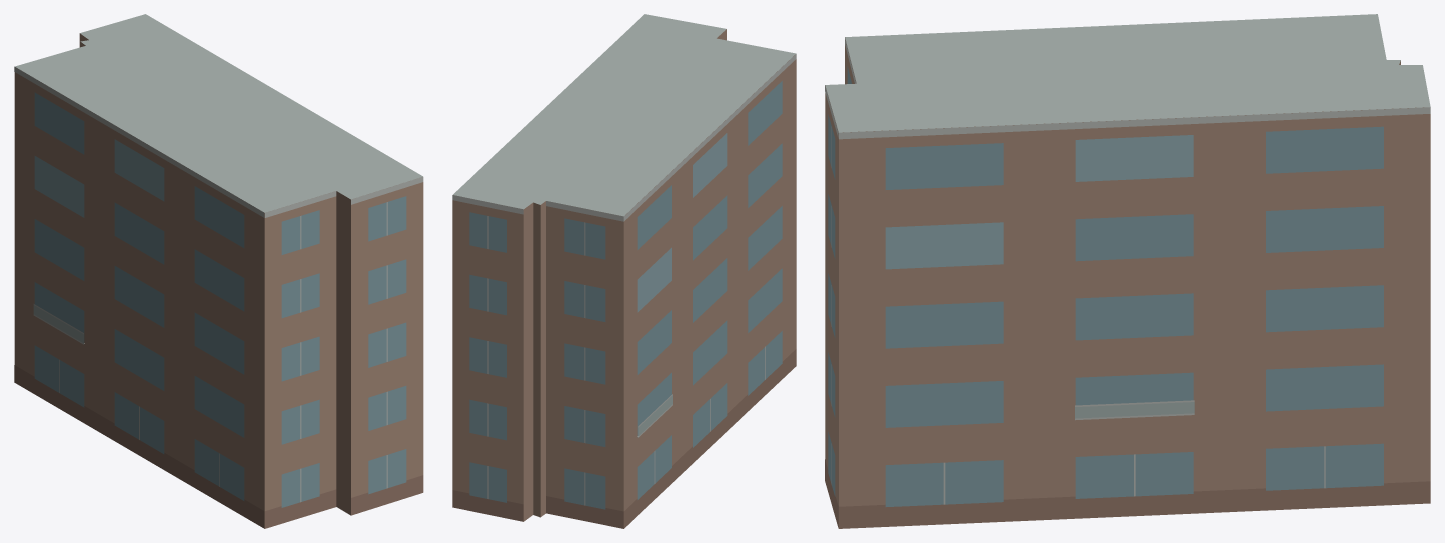
The model's file is survey-upis-32743533.glb.
3 views of the same model, side by side, from view 1: azimuth 30°, elevation 25°; view 2: azimuth 150°, elevation 25°; view 3: azimuth 270°, elevation 25° (orthographic). The views are drawn at different scales.
Parts seen in each view (by area): view 1: survey-upis-32743533.tmp; view 2: survey-upis-32743533.tmp; view 3: survey-upis-32743533.tmp.
Boxes of the visible parts, <box> form: survey-upis-32743533.tmp: <box>14,14,423,528</box>; survey-upis-32743533.tmp: <box>452,14,796,528</box>; survey-upis-32743533.tmp: <box>825,14,1430,528</box>.
Size of the model in its own units: 9.25 by 14.4 by 19.95.
